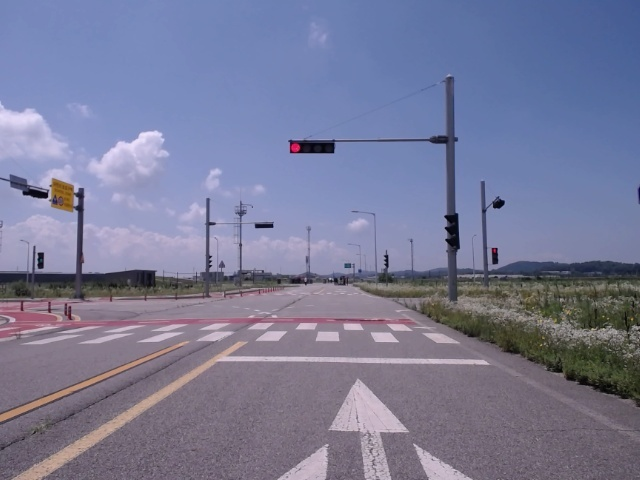red_4: (290, 142, 334, 153)
